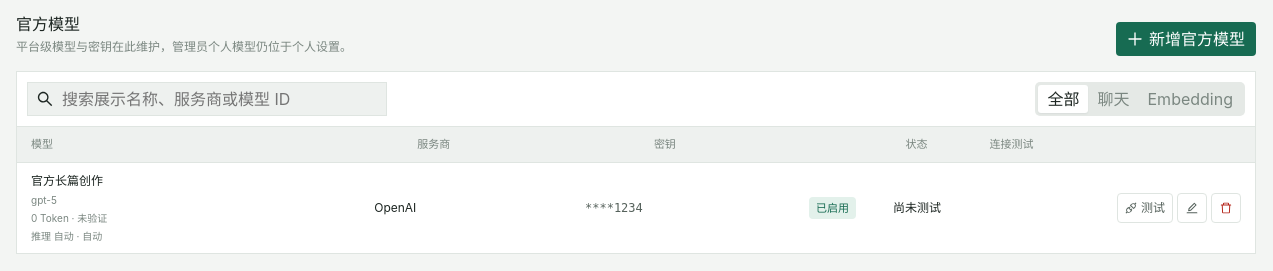
Test: AdminOfficialModels › loads official configurations and uses the system connection-test endpoint
Expected: the table shows "官方长篇创作", [31, 173, 103, 188]
Click the button "测试" at (1145,208), box [1117, 193, 1173, 223]
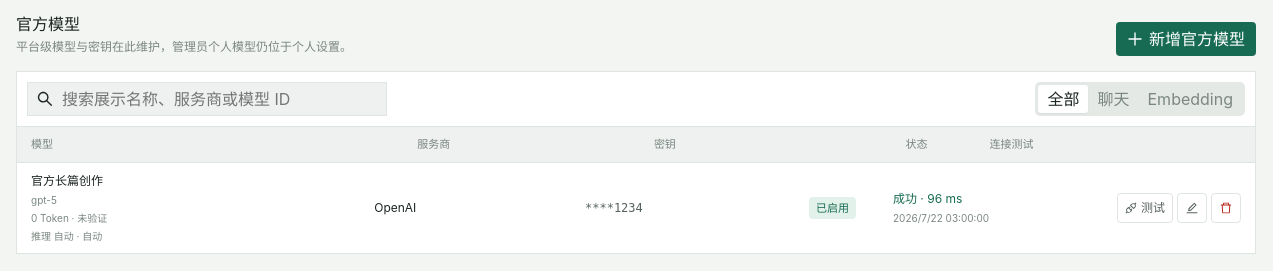
Expected: the text "成功 · 96 ms" is shown, [893, 191, 962, 206]
